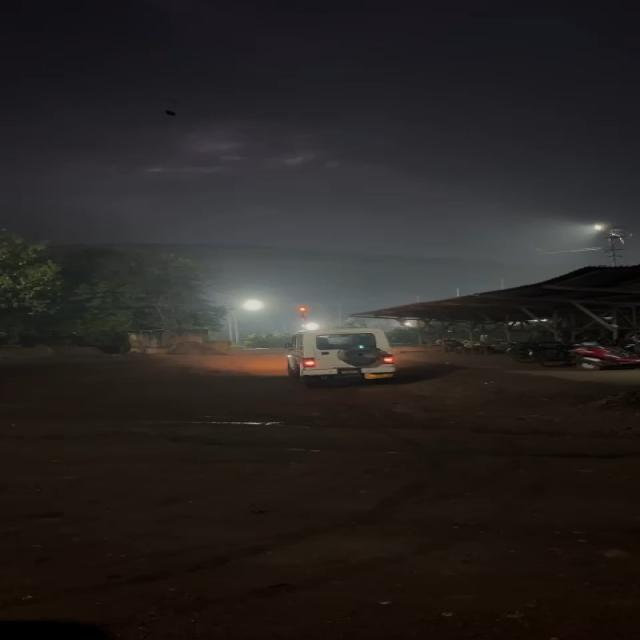light_vehicle: (289, 326, 397, 382)
